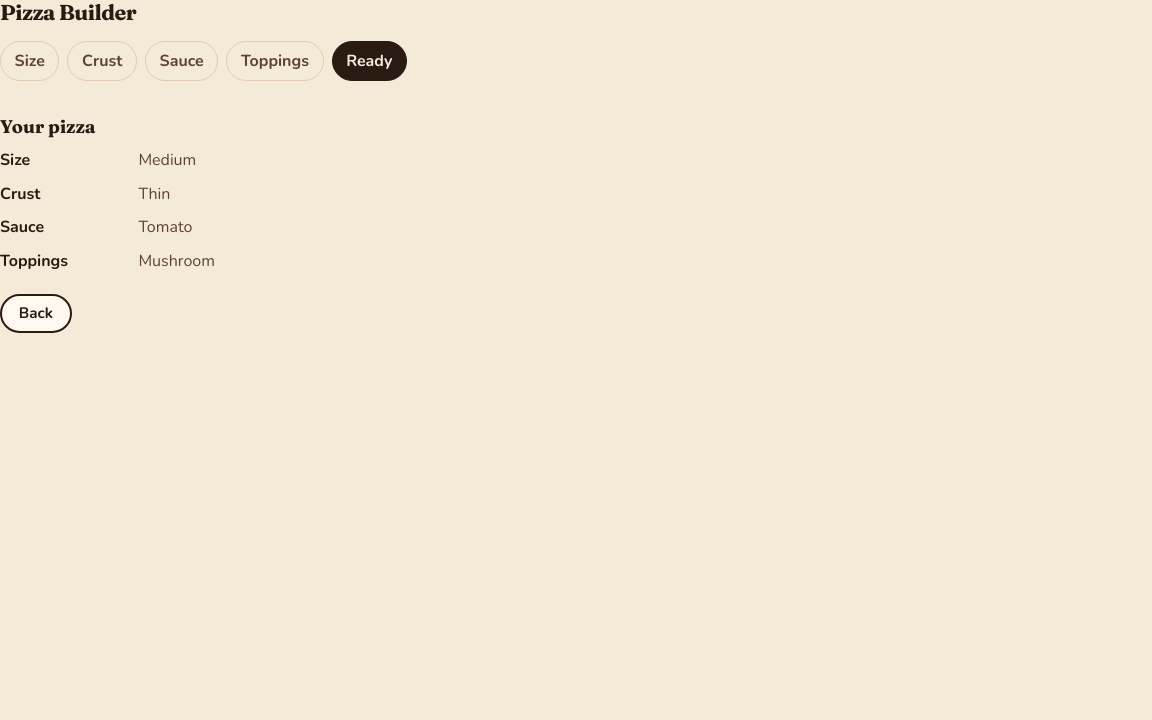
it: PizzaBuilder › jumps between completed steps while editing without losing selections
Click the button "Size" at [30, 61], box [1, 42, 58, 80]
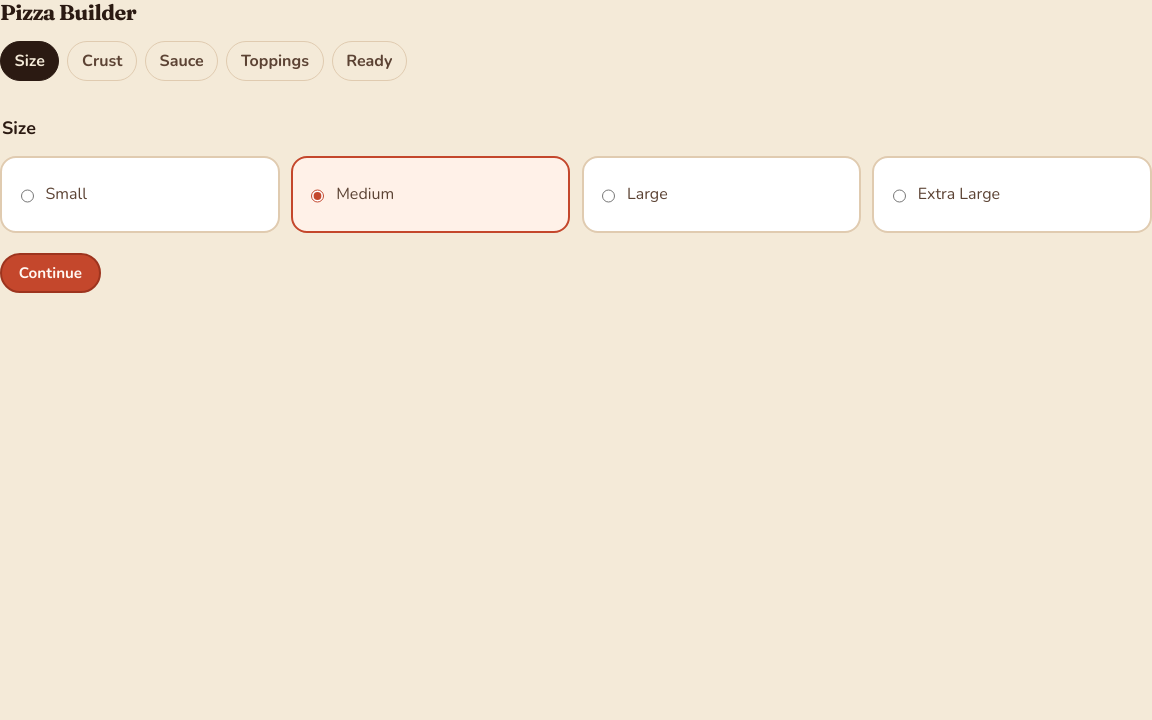
Expected: the radio button labelled "Medium" is checked, [311, 172, 324, 220]
Click the button "Toppings" at [275, 61], box [227, 42, 322, 80]
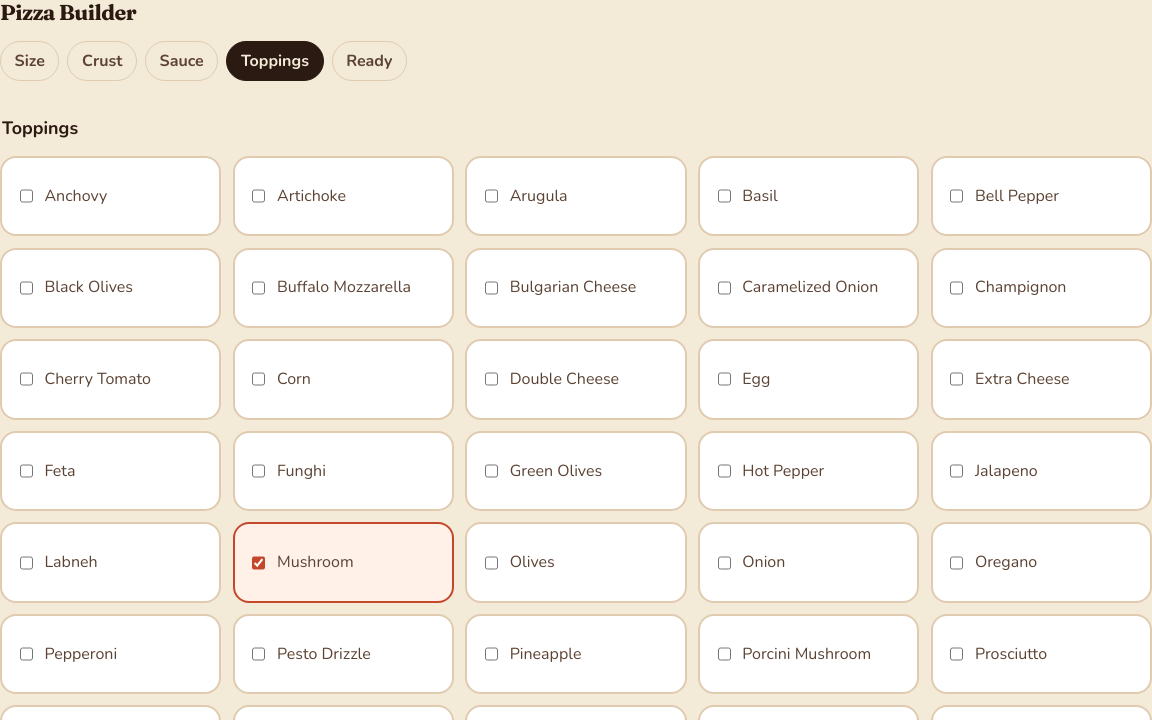
Expected: the checkbox labelled "Mushroom" is checked, [252, 538, 265, 586]
Click the button "Ready" at [369, 61], box [332, 42, 406, 80]
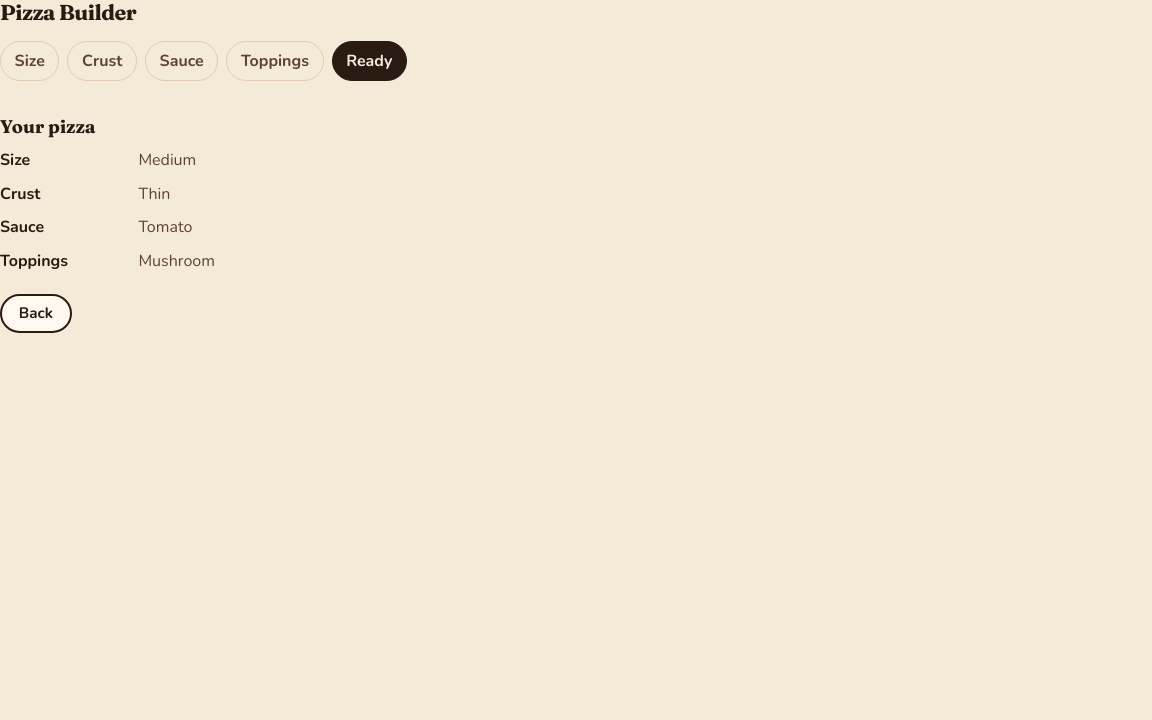
Expected: the text "Mushroom" is shown, [138, 250, 215, 272]
Expected: the heading "Your pizza" is shown, [0, 115, 96, 138]
